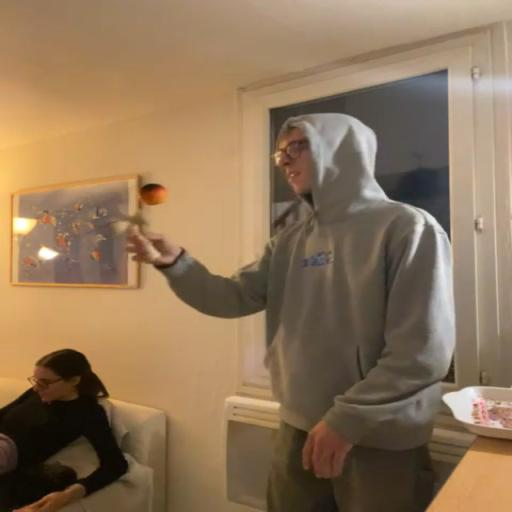kendama_ball: (138, 183, 168, 206)
